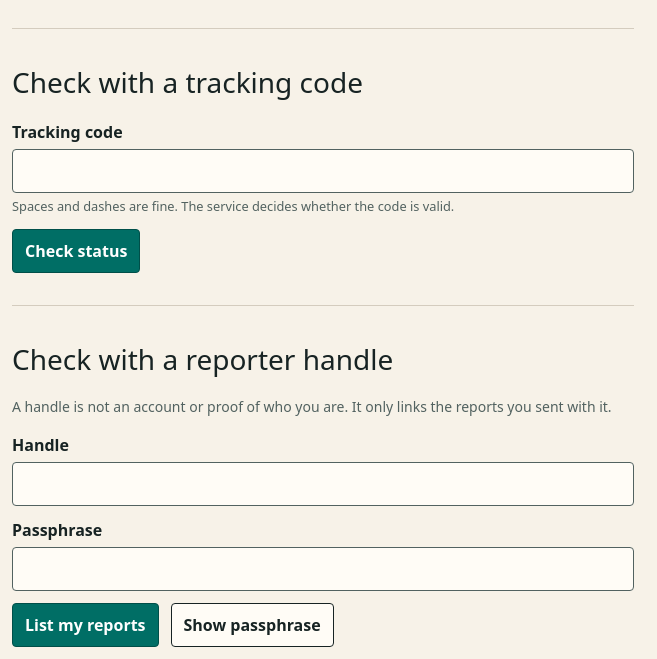
TrackPanel › answers a follow-up with one key per exact response, then shows the new state
Expected: the button "Check status" is enabled, top-left (12, 229), bottom-right (140, 273)
Type "code-1" into the field labelled "Tracking code" at (323, 171), box top-left (12, 149), bottom-right (634, 193)
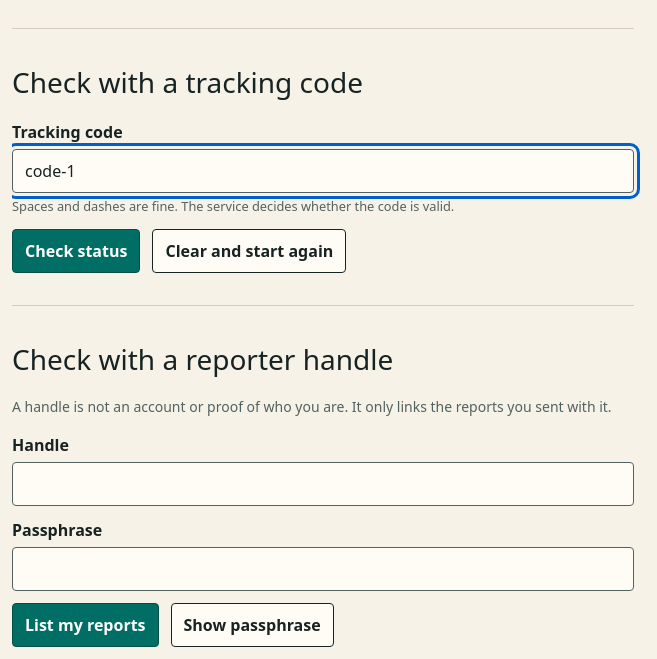
Click the button "Check status" at (76, 251), box top-left (12, 229), bottom-right (140, 273)
(page scrolled)
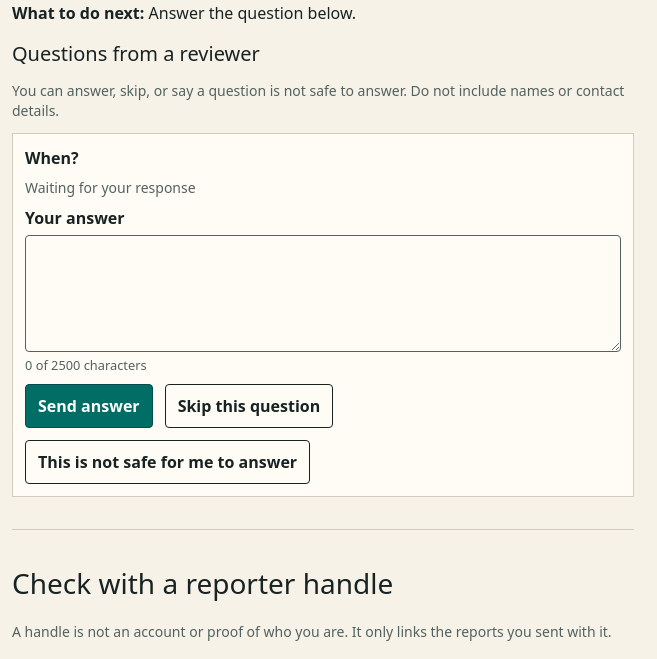
Now the text "When?" is shown, box top-left (25, 147), bottom-right (79, 169)
Click the button "Send answer" at (89, 406), box top-left (25, 384), bottom-right (153, 428)
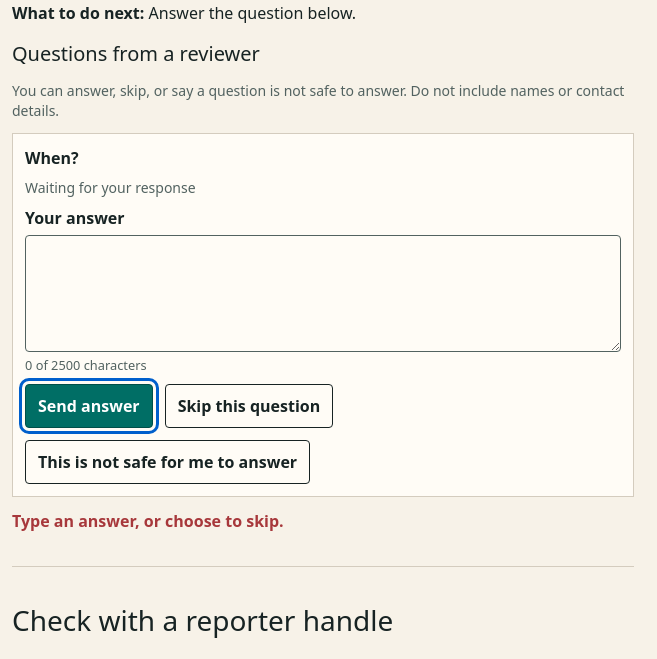
Now the text "Type an answer, or choose to skip." is shown, box top-left (12, 510), bottom-right (284, 532)
Type "Around noon." into the text box labelled "Your answer" at (323, 294), box top-left (25, 235), bottom-right (621, 352)
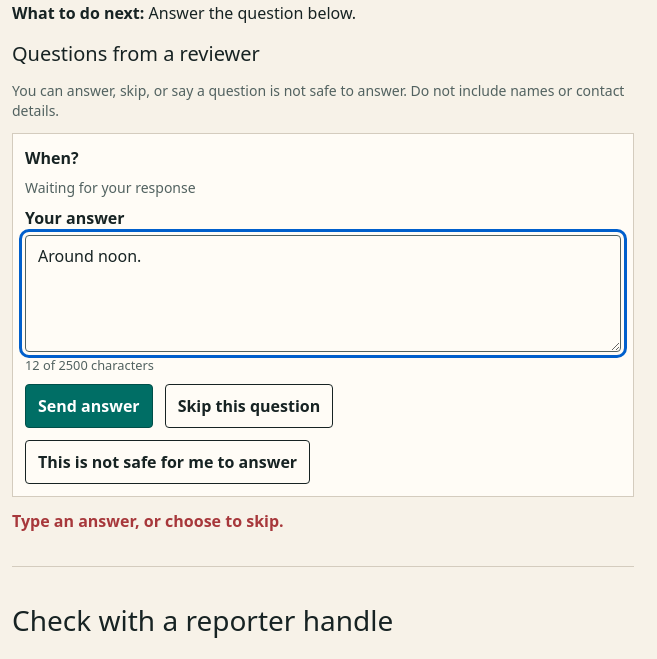
Click the button "Send answer" at (89, 406), box top-left (25, 384), bottom-right (153, 428)
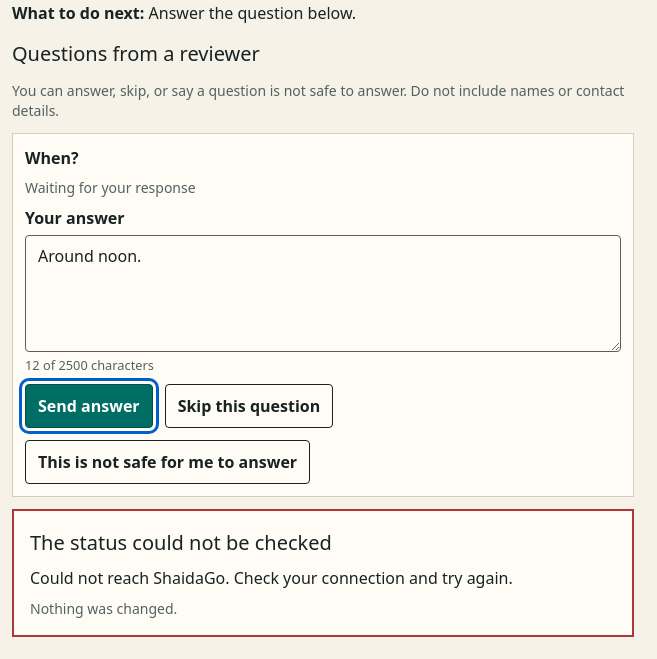
Now the text "Could not reach ShaidaGo. Check your connection and try again." is shown, box top-left (30, 567), bottom-right (513, 589)
Click the button "Send answer" at (89, 406), box top-left (25, 384), bottom-right (153, 428)
(page scrolled)
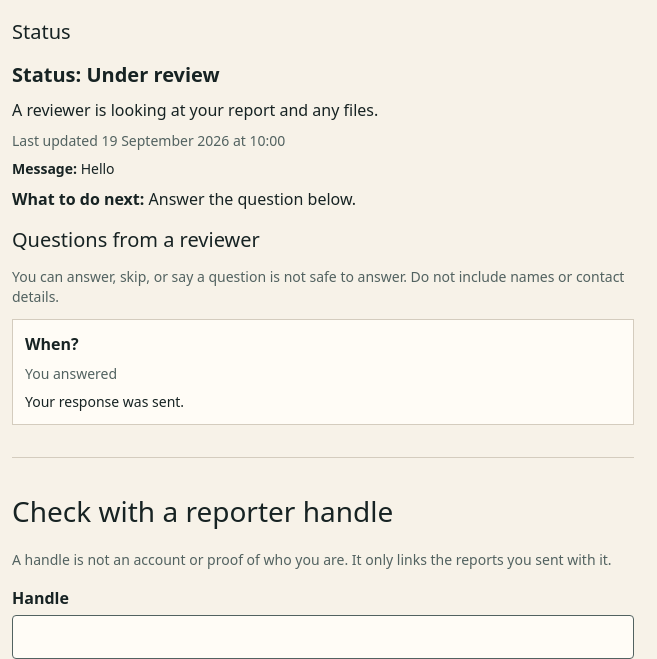
Now the text "Your response was sent." is shown, box top-left (25, 392), bottom-right (184, 411)
Now the text "You answered" is shown, box top-left (25, 364), bottom-right (117, 383)
